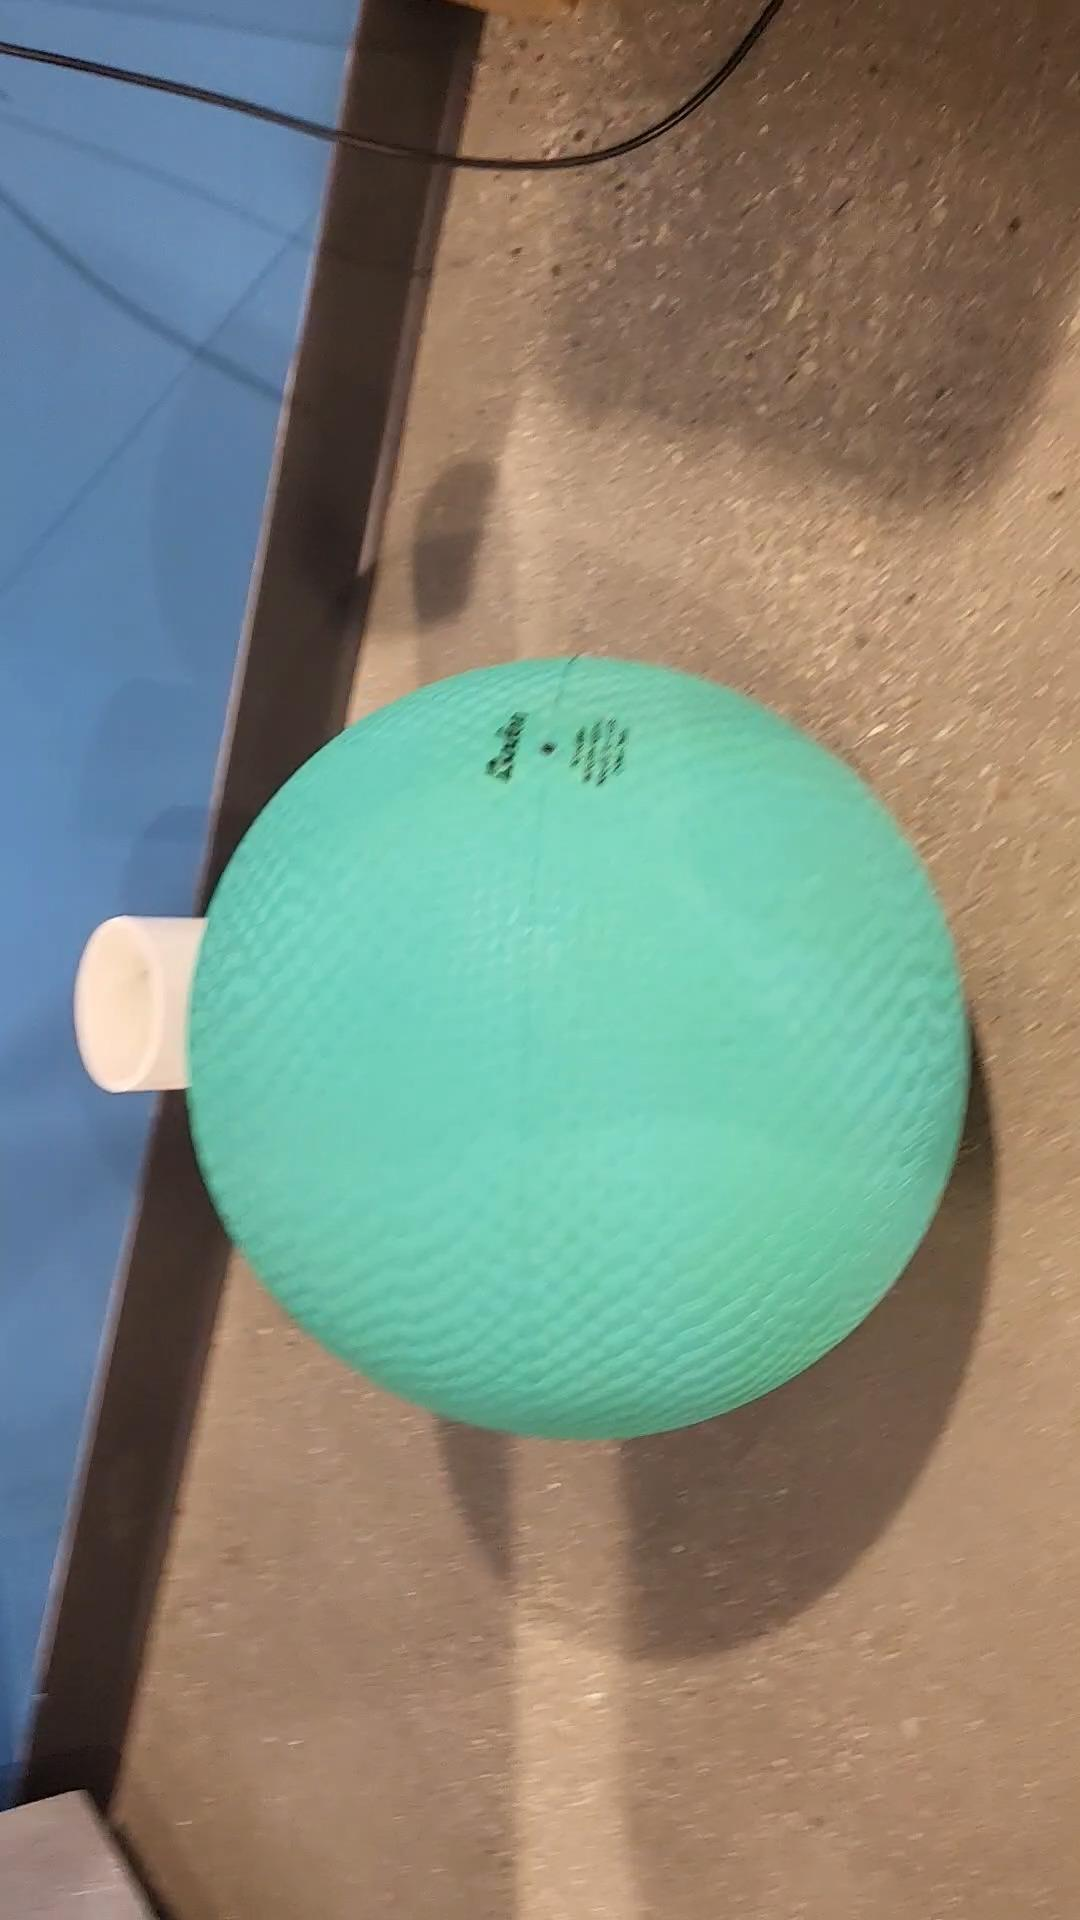algae: (185, 650, 972, 1451)
coral: (73, 913, 228, 1097)
